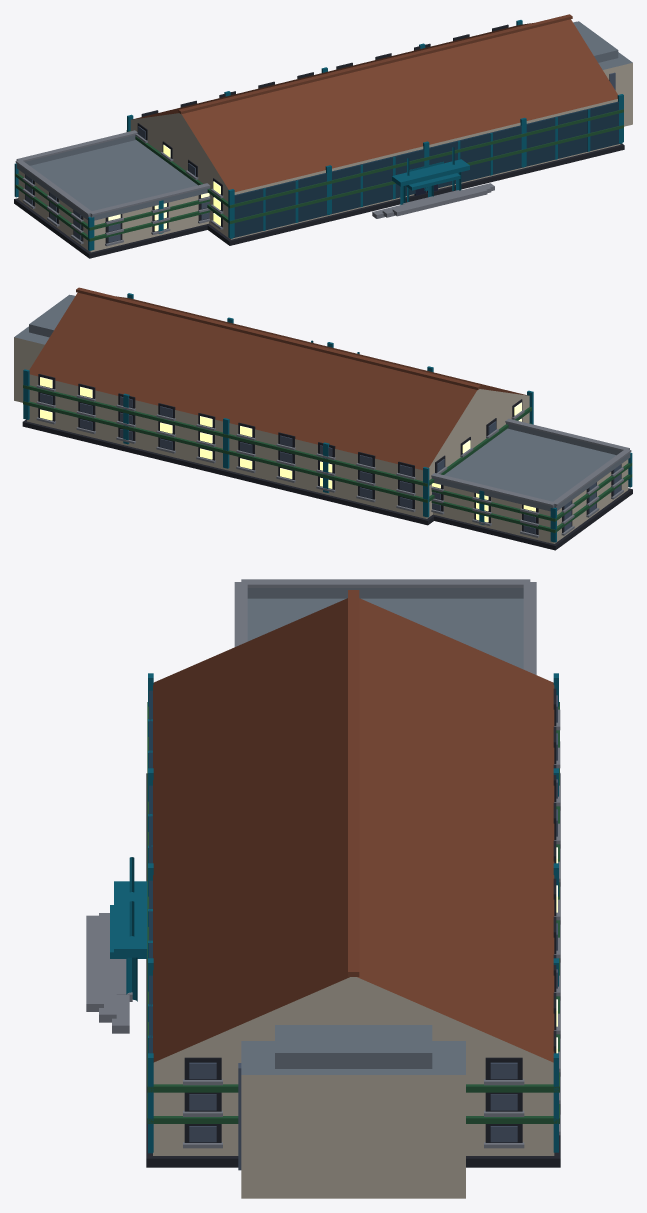
The model's file is library-high.glb.
3 views of the same model, one above another, from view 1: azimuth 30°, elevation 25°; view 2: azimuth 150°, elevation 25°; view 3: azimuth 270°, elevation 25° (orthographic). The views are drawn at different scales.
Size of the model in its own units: 157 by 26.8 by 59.1.
